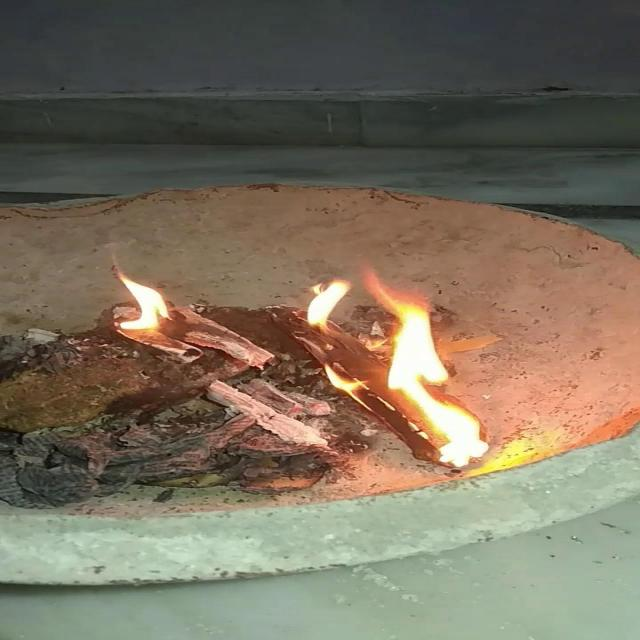fire: (100, 240, 498, 474)
